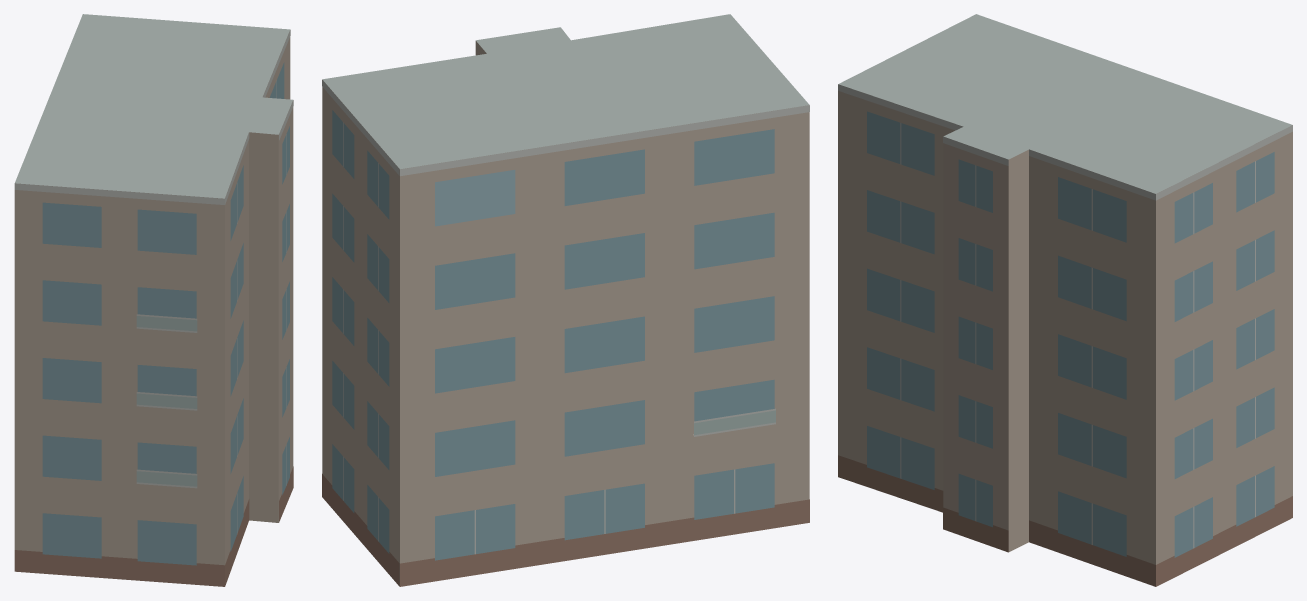
File: survey-upis-32678579.glb
The picture shows the model from 3 angles, left to right: view 1: azimuth 30°, elevation 25°; view 2: azimuth 150°, elevation 25°; view 3: azimuth 270°, elevation 25°; orthographic projection. The views are drawn at different scales.
Visible parts, largest first — view 1: survey-upis-32678579.tmp; view 2: survey-upis-32678579.tmp; view 3: survey-upis-32678579.tmp.
Part boxes in pixels (bbox=[...]): survey-upis-32678579.tmp: bbox=[14, 14, 293, 586]; survey-upis-32678579.tmp: bbox=[322, 14, 809, 586]; survey-upis-32678579.tmp: bbox=[838, 14, 1292, 586].
Bounding box in the file's own units: 14.26 × 14.5 × 15.22.
